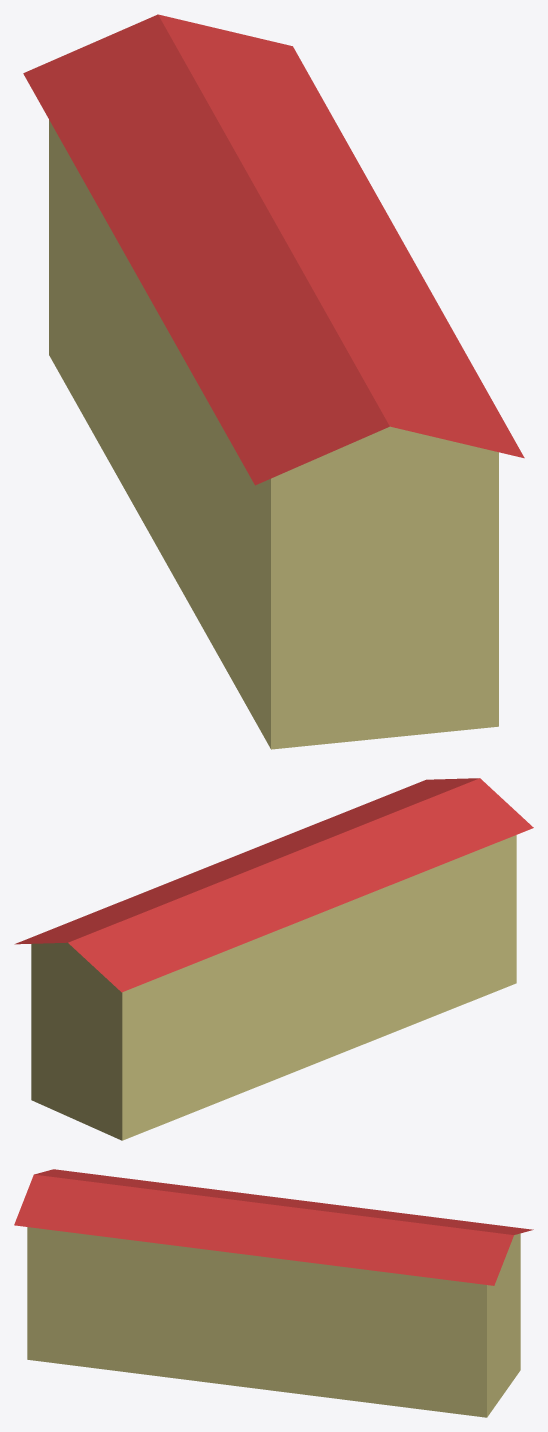
3 renders of one model, top to bottom at view 1: azimuth 30°, elevation 25°; view 2: azimuth 150°, elevation 25°; view 3: azimuth 270°, elevation 25°, orthographic. The views are drawn at different scales.
Parts seen in each view (by area): view 1: group_5, group_3; view 2: group_5, group_3; view 3: group_5, group_3.
Boxes of the visible parts, left/top/right/bottom form: group_5: left=49, top=120, right=498, bottom=749; group_3: left=23, top=14, right=524, bottom=485; group_5: left=31, top=835, right=516, bottom=1140; group_3: left=14, top=778, right=533, bottom=992; group_5: left=27, top=1227, right=520, bottom=1417; group_3: left=14, top=1169, right=533, bottom=1285.
Size of the model in its own units: 25.63 by 48.24 by 16.4.
